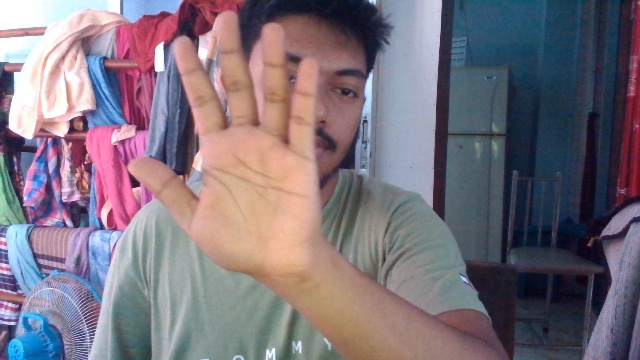hello: (133, 9, 333, 267)
